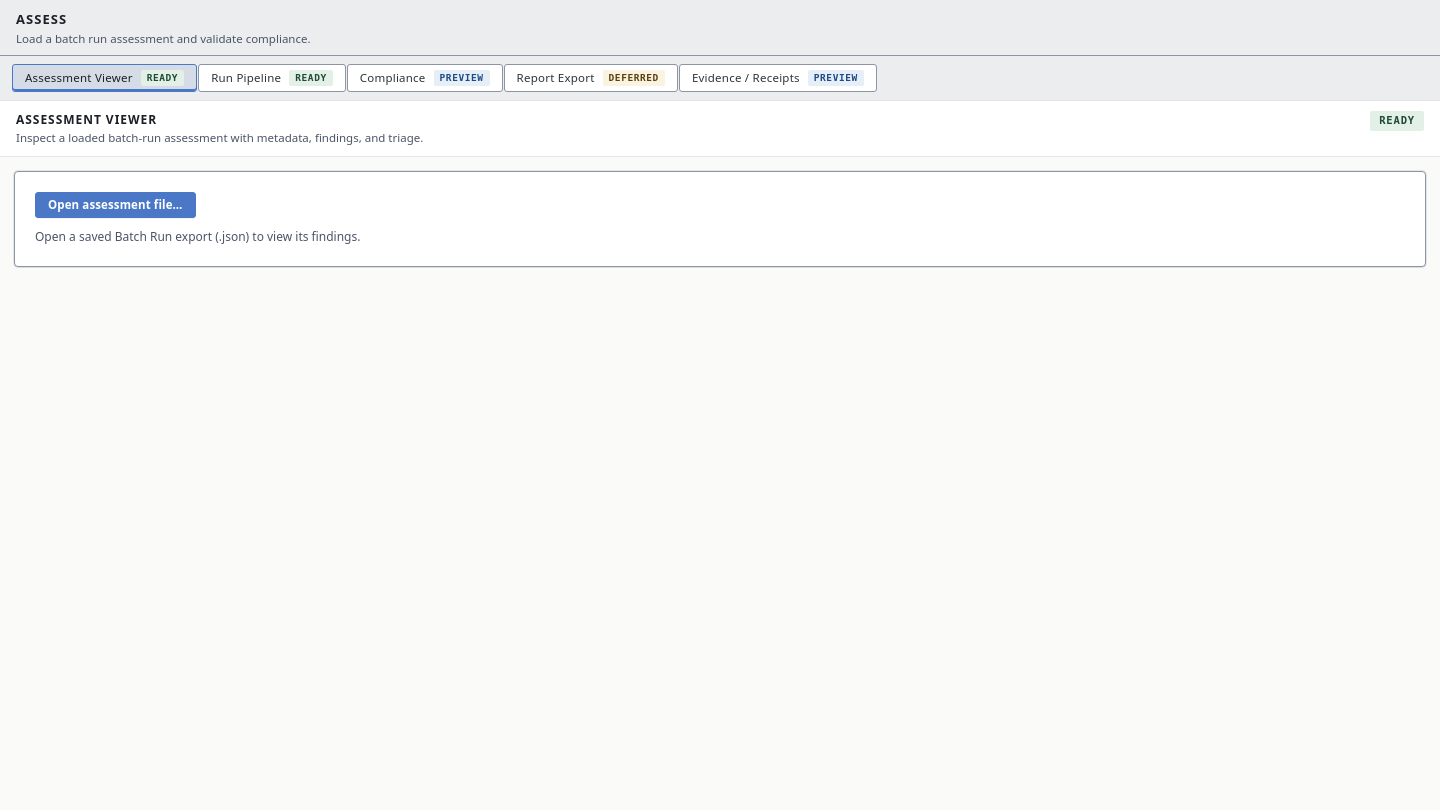
Scenario: AssessPanel — ModeWorkbenchShell integration › clicking pipeline renders assess-pipeline-planner panel
The width and height of the screenshot is (1440, 810).
Click the tab with test id "mwb-tool-pipeline": point(272, 78) [198,64,346,92]
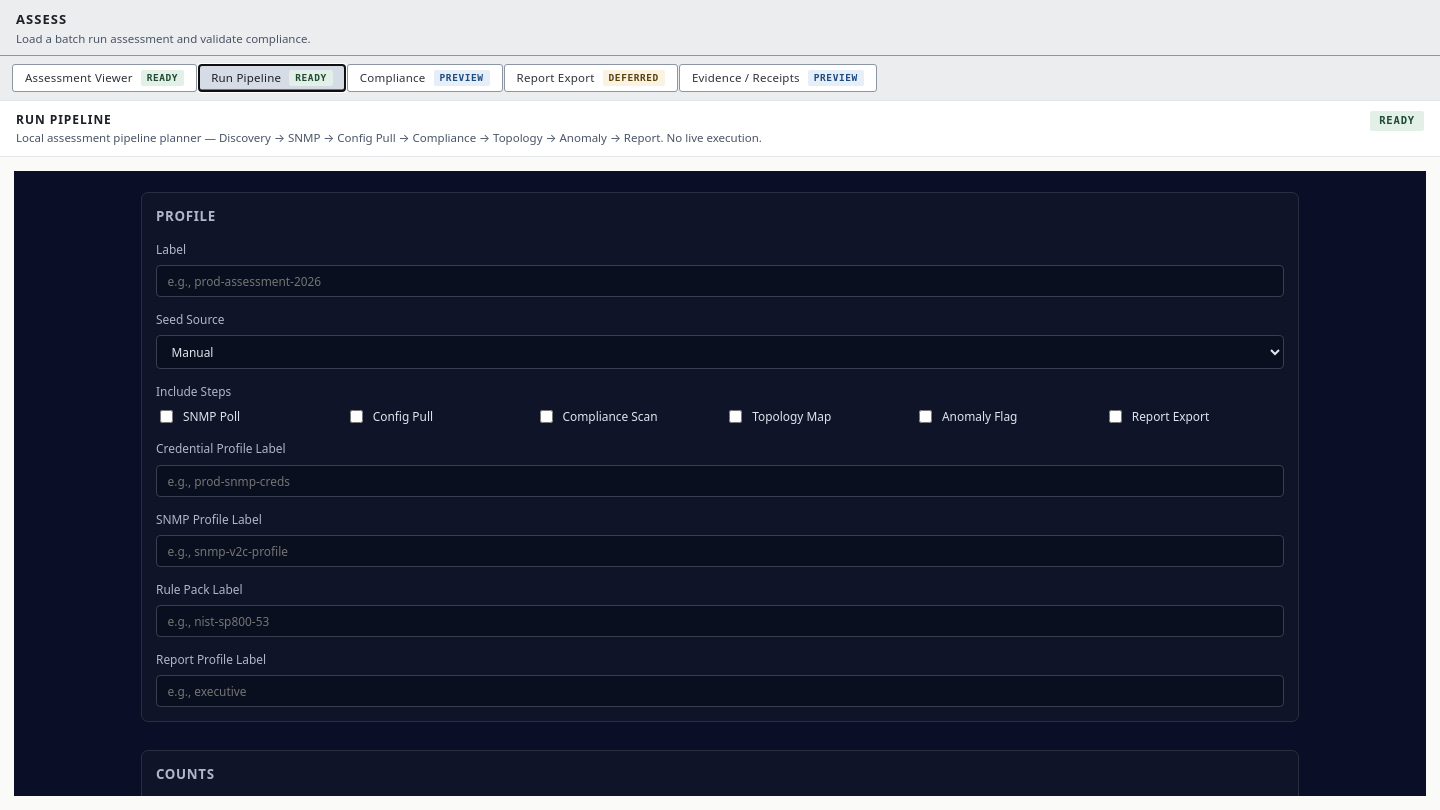
Check: the element with test id "assess-pipeline-planner" is shown
